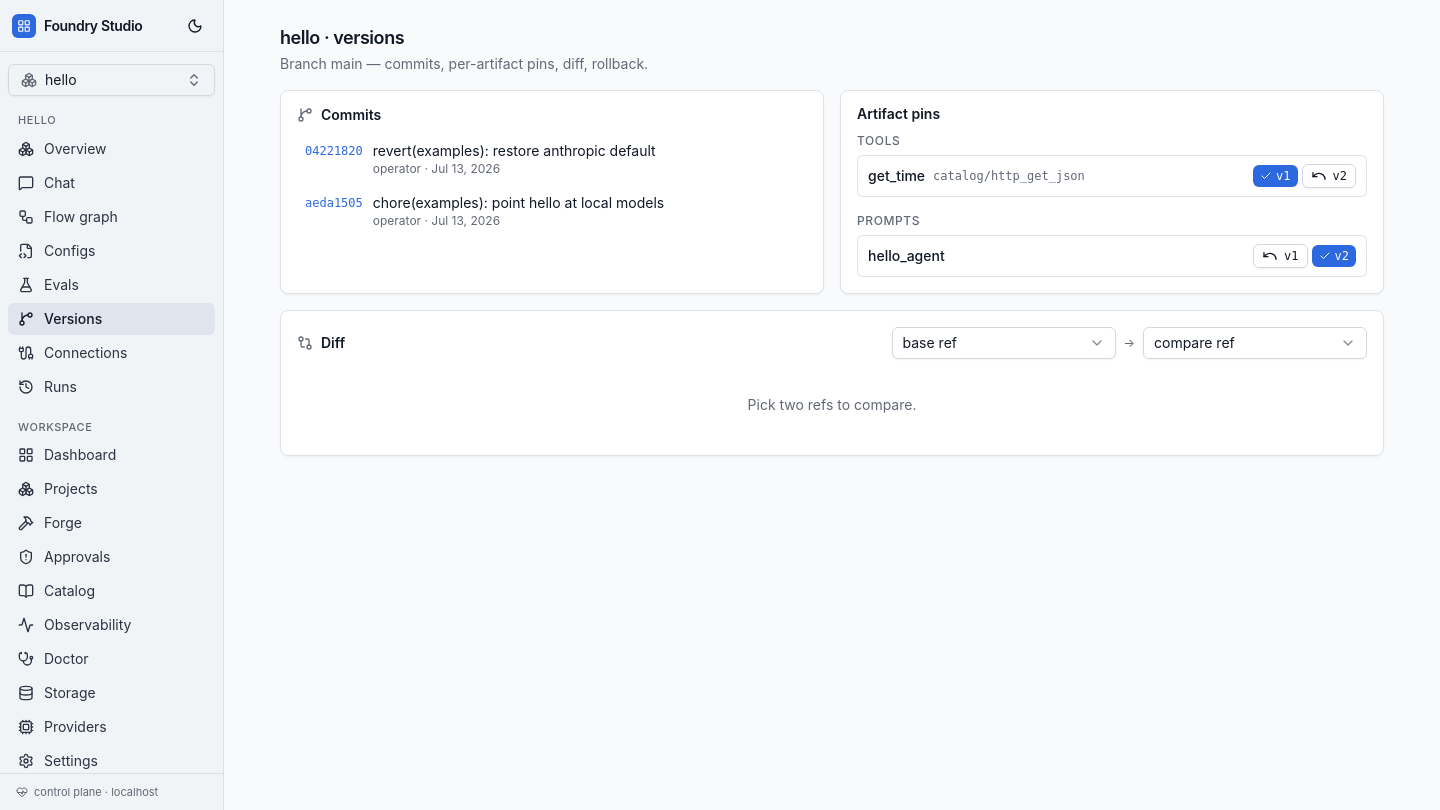
it: versions › walks the dry-run-first rollback flow
The width and height of the screenshot is (1440, 810).
Click the button named "Roll get_time to v2": click(1329, 176) [1302, 164, 1356, 188]
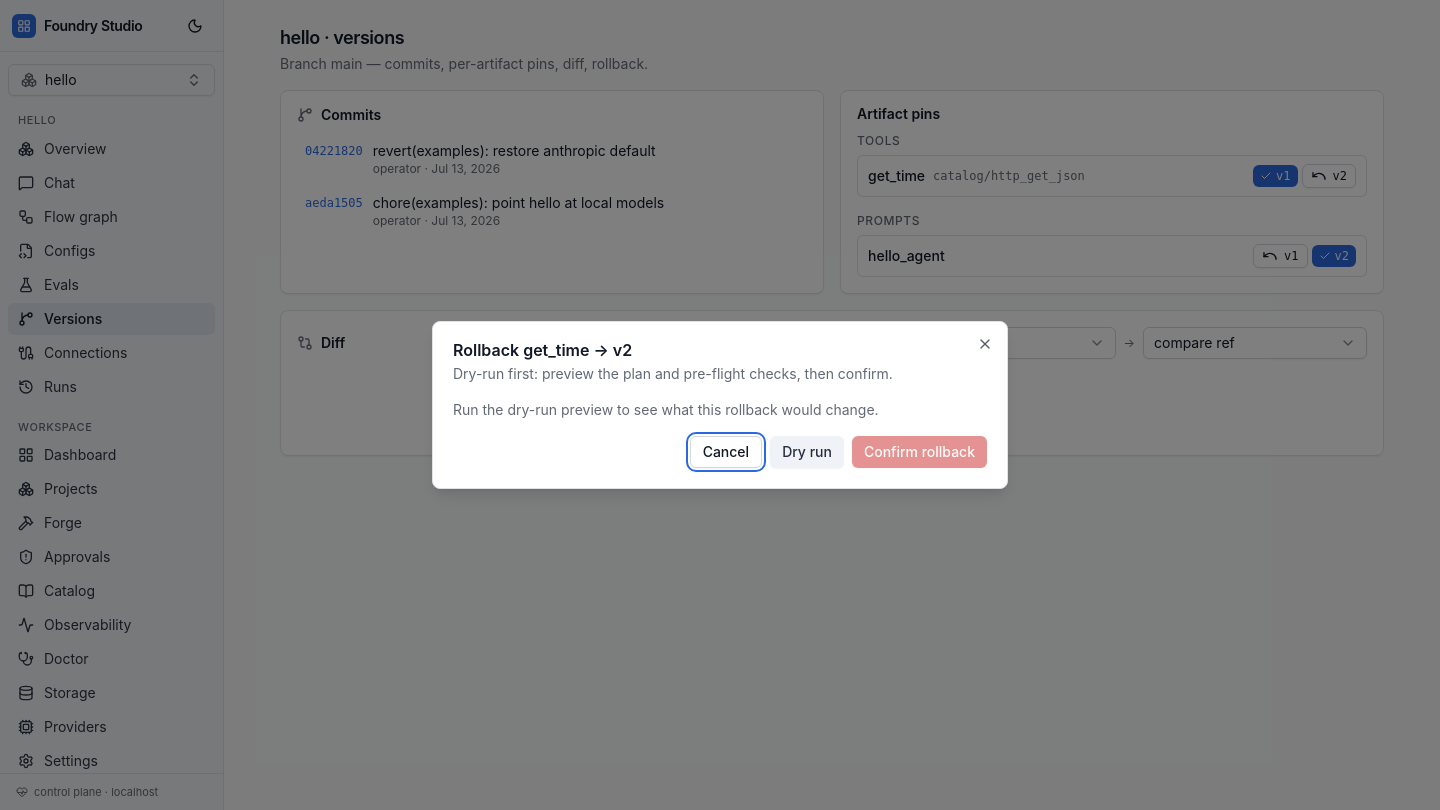
Expected: the heading "Rollback get_time → v2" is shown, [453, 340, 632, 360]
Expected: the button "Confirm rollback" is disabled, [852, 436, 987, 468]
Click the button "Dry run": click(807, 452) [770, 436, 844, 468]
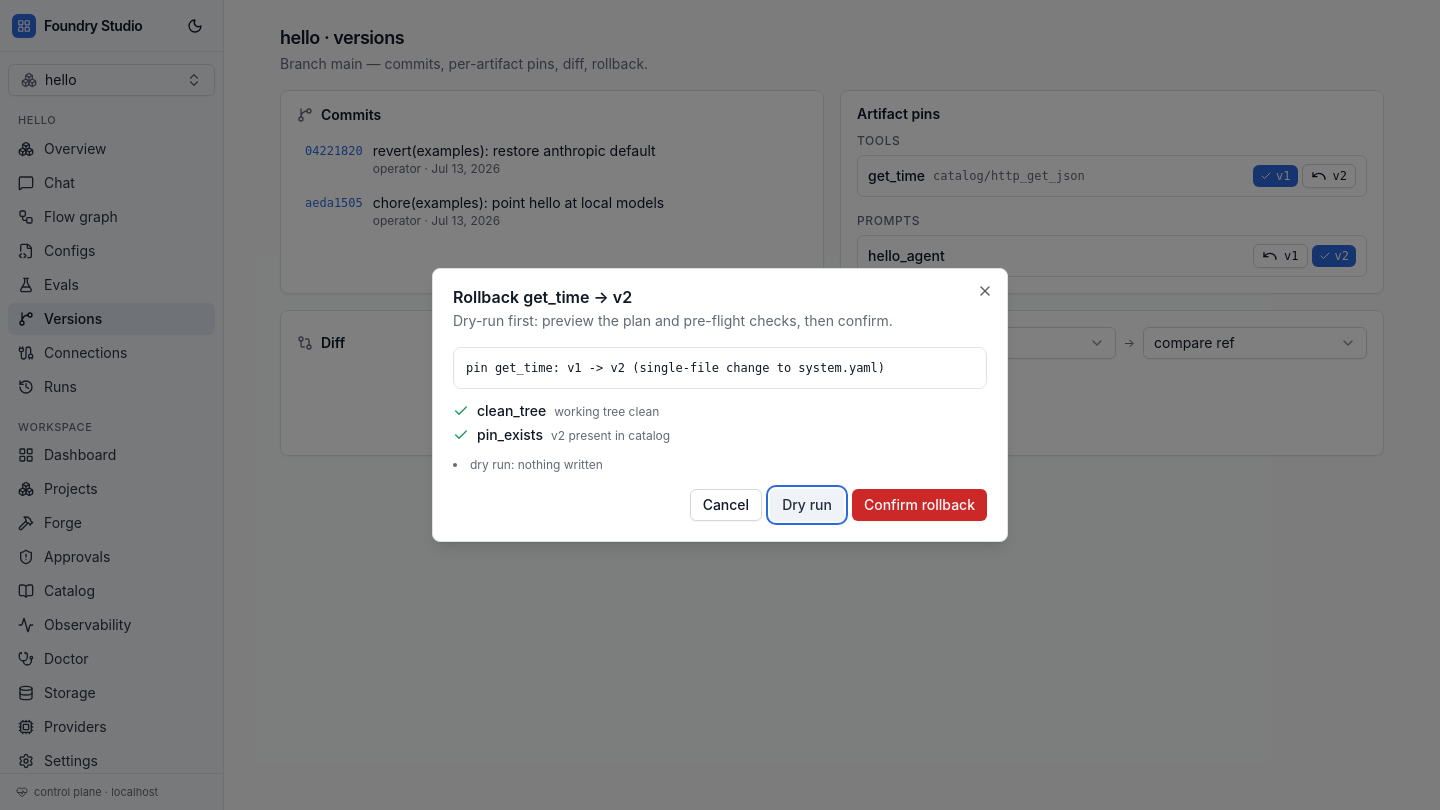
Expected: the text "pin get_time: v1 -> v2 (single-file change to system.yaml)" is shown, [453, 347, 987, 389]
Expected: the text "clean_tree" is shown, [477, 402, 546, 419]
Click the button "Confirm rollback": click(919, 505) [852, 489, 987, 521]
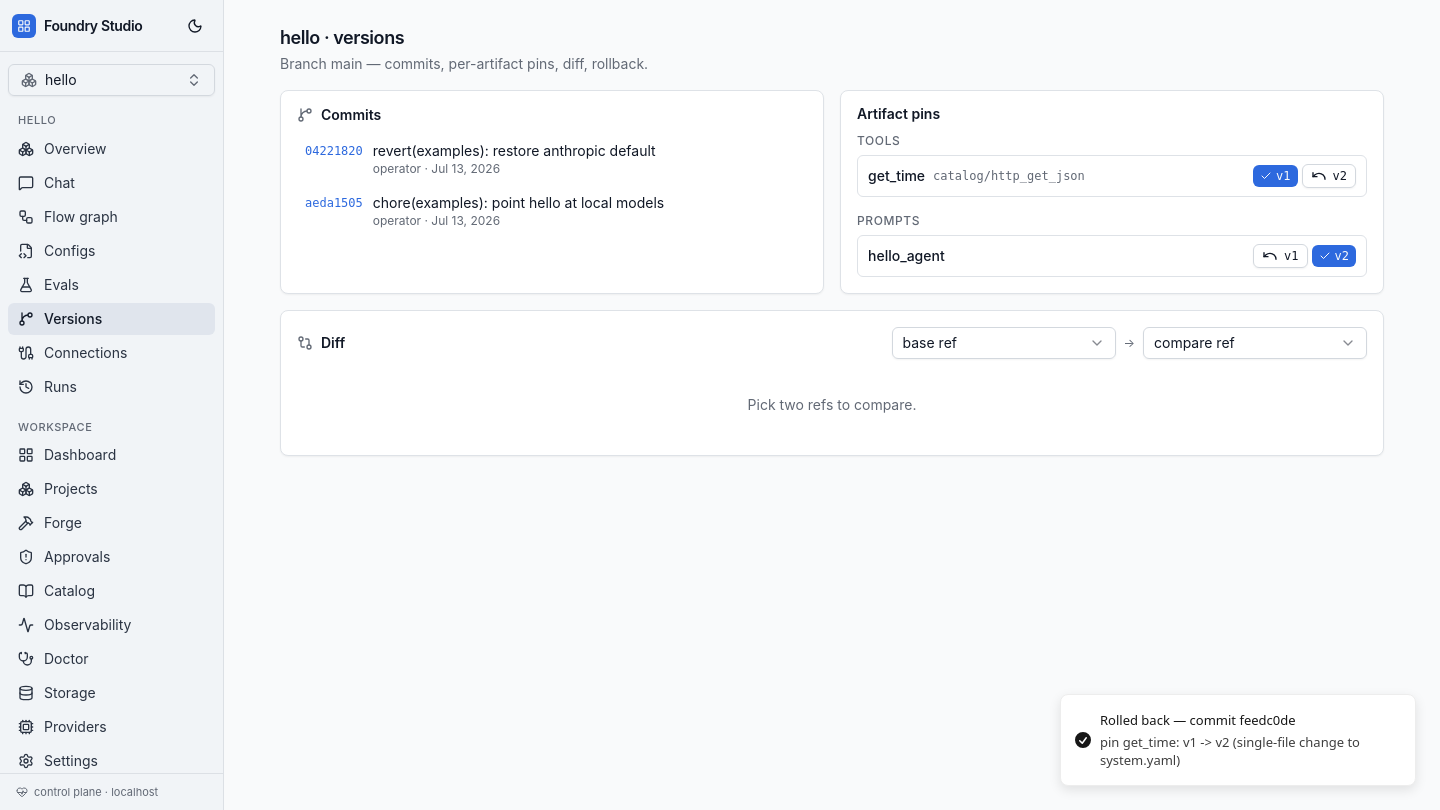
Expected: the text "Rolled back — commit feedc0de" is shown, [1100, 711, 1296, 729]
